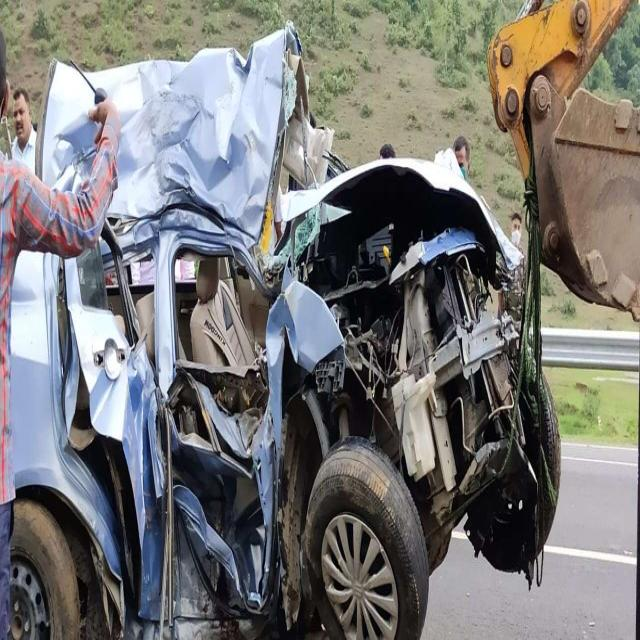accident: (10, 24, 560, 637)
